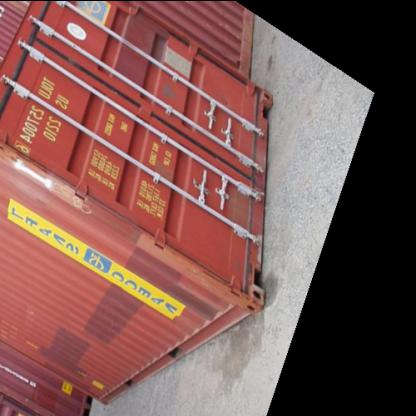Damage: (162, 245, 252, 305), (2, 150, 72, 198), (225, 154, 258, 228)
